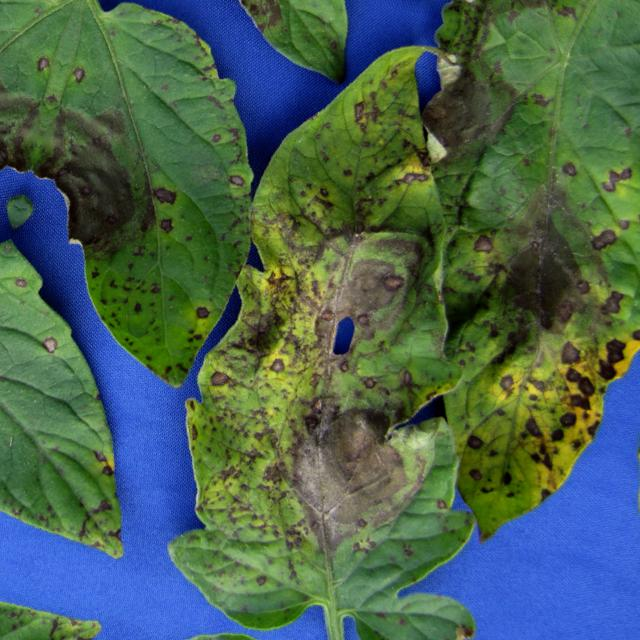Tomato leaf late blight: (122, 2, 604, 640), (238, 5, 640, 594), (0, 0, 327, 424), (0, 178, 222, 565), (6, 0, 153, 269)
